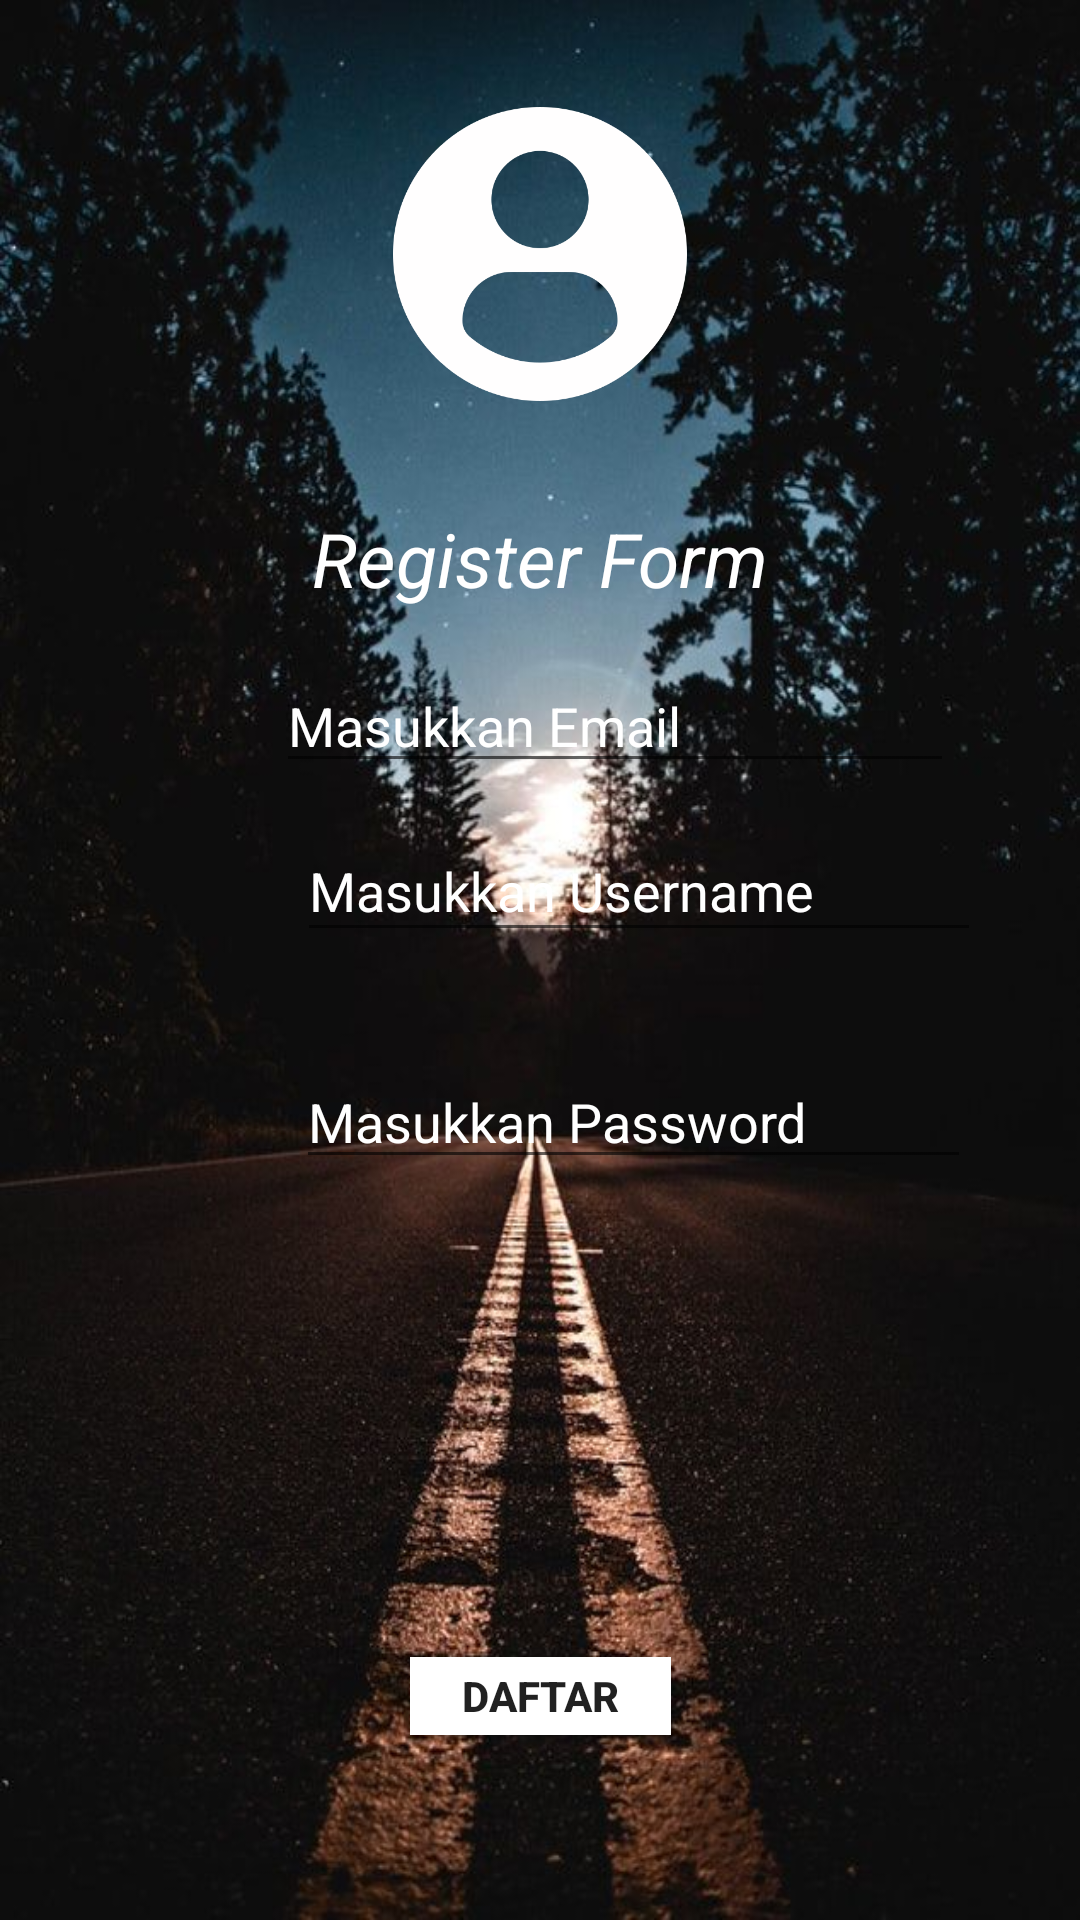

Screen size 1080px×1920px. Icon name, then its center in pixels as [x,y]:
user: [540,254]
